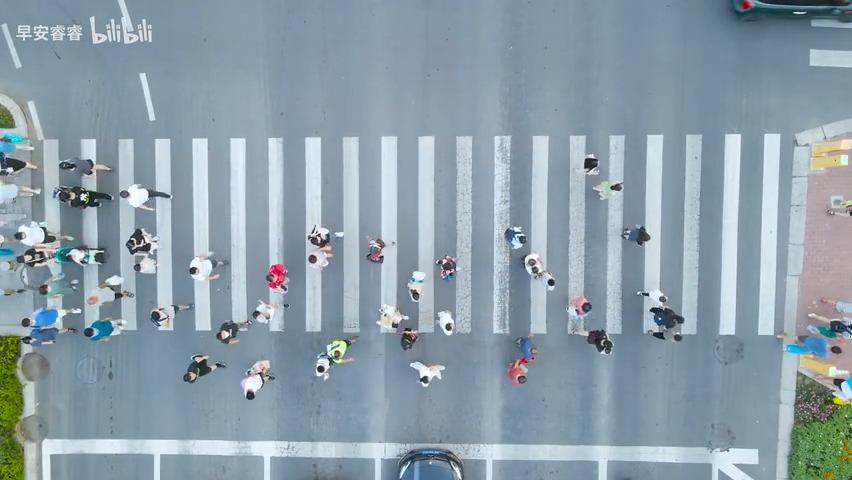Civilian: (314, 335, 358, 379), (648, 295, 684, 341), (12, 220, 72, 247), (17, 307, 85, 330), (52, 184, 114, 209), (119, 183, 173, 211), (240, 359, 275, 400), (182, 353, 226, 383), (522, 252, 555, 291), (188, 251, 229, 281), (58, 156, 112, 177), (149, 303, 192, 329), (785, 334, 829, 359), (83, 317, 127, 342), (15, 329, 71, 348), (565, 295, 592, 334), (85, 282, 129, 305), (409, 360, 445, 387), (15, 247, 63, 267), (125, 227, 159, 255), (66, 245, 107, 268), (0, 151, 37, 176), (215, 319, 252, 344), (586, 328, 613, 354), (514, 333, 537, 363), (266, 263, 289, 292), (592, 179, 623, 200), (621, 224, 650, 246), (307, 223, 331, 249), (365, 234, 386, 263), (406, 270, 425, 301), (506, 358, 528, 384), (435, 254, 456, 280), (132, 255, 158, 276), (504, 225, 526, 249), (252, 299, 274, 323), (436, 309, 454, 335), (400, 327, 418, 350), (583, 153, 599, 175)
